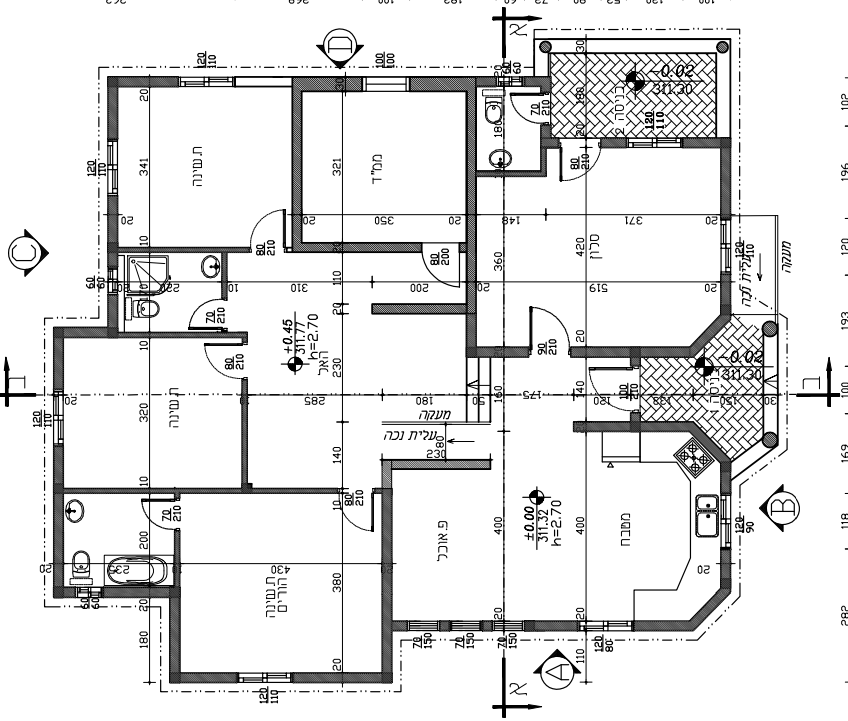door: (517, 300, 593, 348), (422, 229, 467, 295), (335, 476, 379, 540), (200, 340, 257, 386), (557, 137, 606, 183), (190, 293, 245, 330), (247, 207, 296, 247), (138, 493, 189, 530), (508, 89, 554, 126)
room: (241, 251, 470, 454), (489, 184, 712, 337), (397, 475, 702, 575), (183, 509, 373, 660), (254, 316, 468, 445), (118, 94, 292, 240), (61, 349, 236, 482), (313, 98, 459, 233), (122, 260, 216, 328), (492, 365, 616, 412)
wall: (286, 92, 311, 249), (465, 78, 479, 356), (418, 70, 555, 91), (380, 451, 392, 674), (104, 196, 122, 340), (50, 449, 66, 597), (381, 452, 502, 470), (299, 240, 426, 254), (122, 243, 256, 255), (572, 419, 694, 432), (294, 72, 363, 94), (373, 301, 473, 315), (572, 344, 697, 355), (169, 587, 182, 685), (240, 382, 252, 488), (111, 72, 180, 89), (124, 330, 248, 339), (69, 485, 338, 489), (717, 151, 732, 219), (297, 671, 392, 681), (106, 587, 183, 598), (475, 344, 532, 358), (56, 325, 115, 336), (172, 674, 240, 681), (640, 623, 688, 632), (689, 139, 728, 148)
window: (48, 389, 72, 442), (238, 667, 294, 689), (181, 72, 239, 92), (365, 73, 413, 96), (102, 139, 124, 189), (577, 616, 635, 634), (718, 214, 736, 271), (630, 134, 682, 153), (721, 492, 734, 551), (68, 583, 101, 601), (494, 619, 528, 634), (455, 618, 484, 632), (408, 621, 443, 625)
